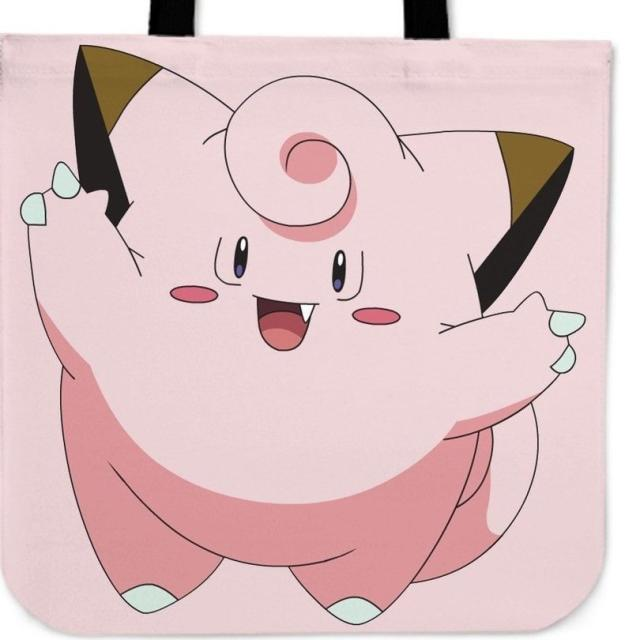Clefairy: (20, 40, 577, 601)
